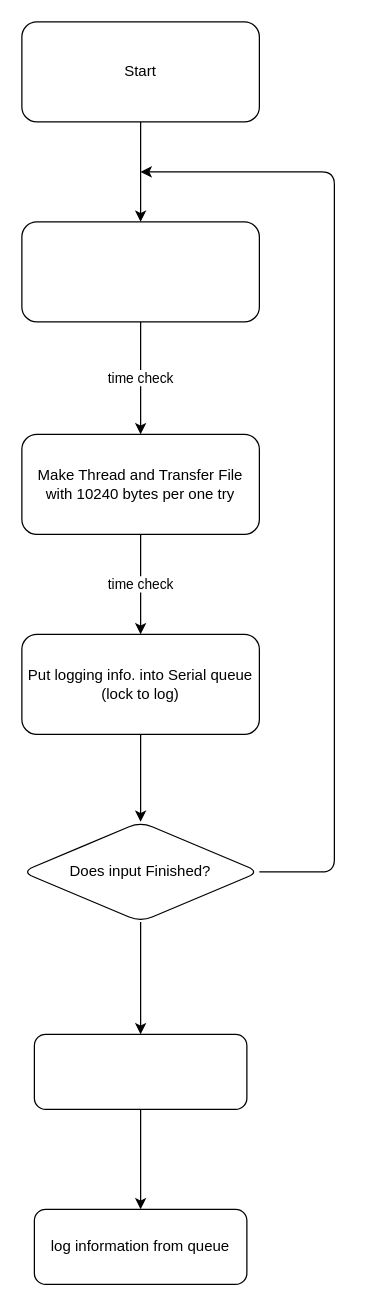
The diagram is 366 pixels wide and 1306 high, and some of its shapes have lost their labels. Here are the shapes that lost their labels. From the top down, the centre of each, then its label:
At point 140,271: "Get file name from user".
At point 140,1071: "Wait until thread finish.".
